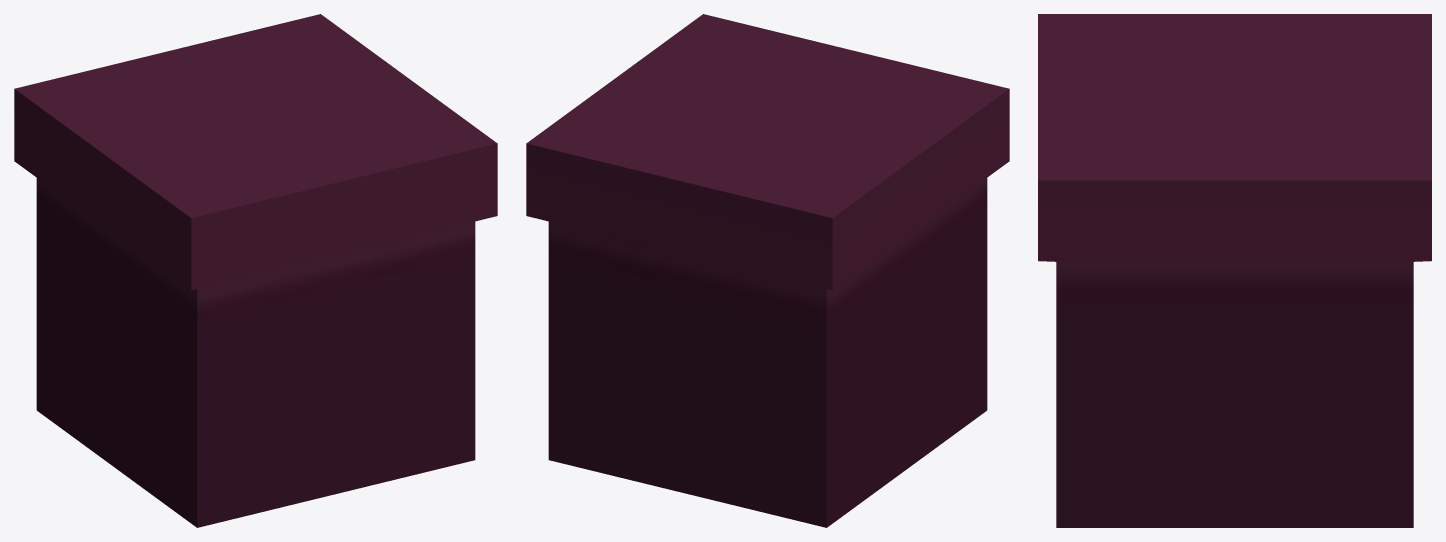
Rendered from SoloTermploInferiorVE.glb.
3 views of the same model, side by side, from view 1: azimuth 30°, elevation 25°; view 2: azimuth 150°, elevation 25°; view 3: azimuth 270°, elevation 25° (orthographic). The views are drawn at different scales.
Parts seen in each view (by area): view 1: SoloTermploInferiorVE; view 2: SoloTermploInferiorVE; view 3: SoloTermploInferiorVE.
Boxes of the visible parts, bbox=[...] form: SoloTermploInferiorVE: bbox=[14, 14, 497, 527]; SoloTermploInferiorVE: bbox=[526, 14, 1009, 527]; SoloTermploInferiorVE: bbox=[1038, 14, 1431, 527].
Size of the model in its own units: 2 by 1.99 by 2.
1 material, 1 textured.
